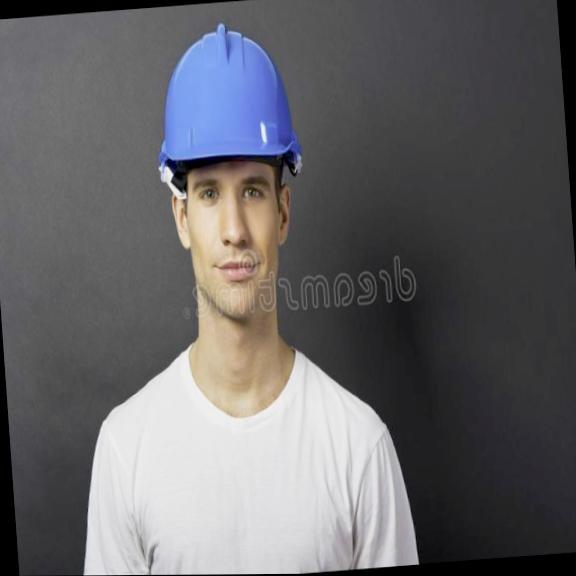no_safety_vest: (60, 327, 419, 576)
